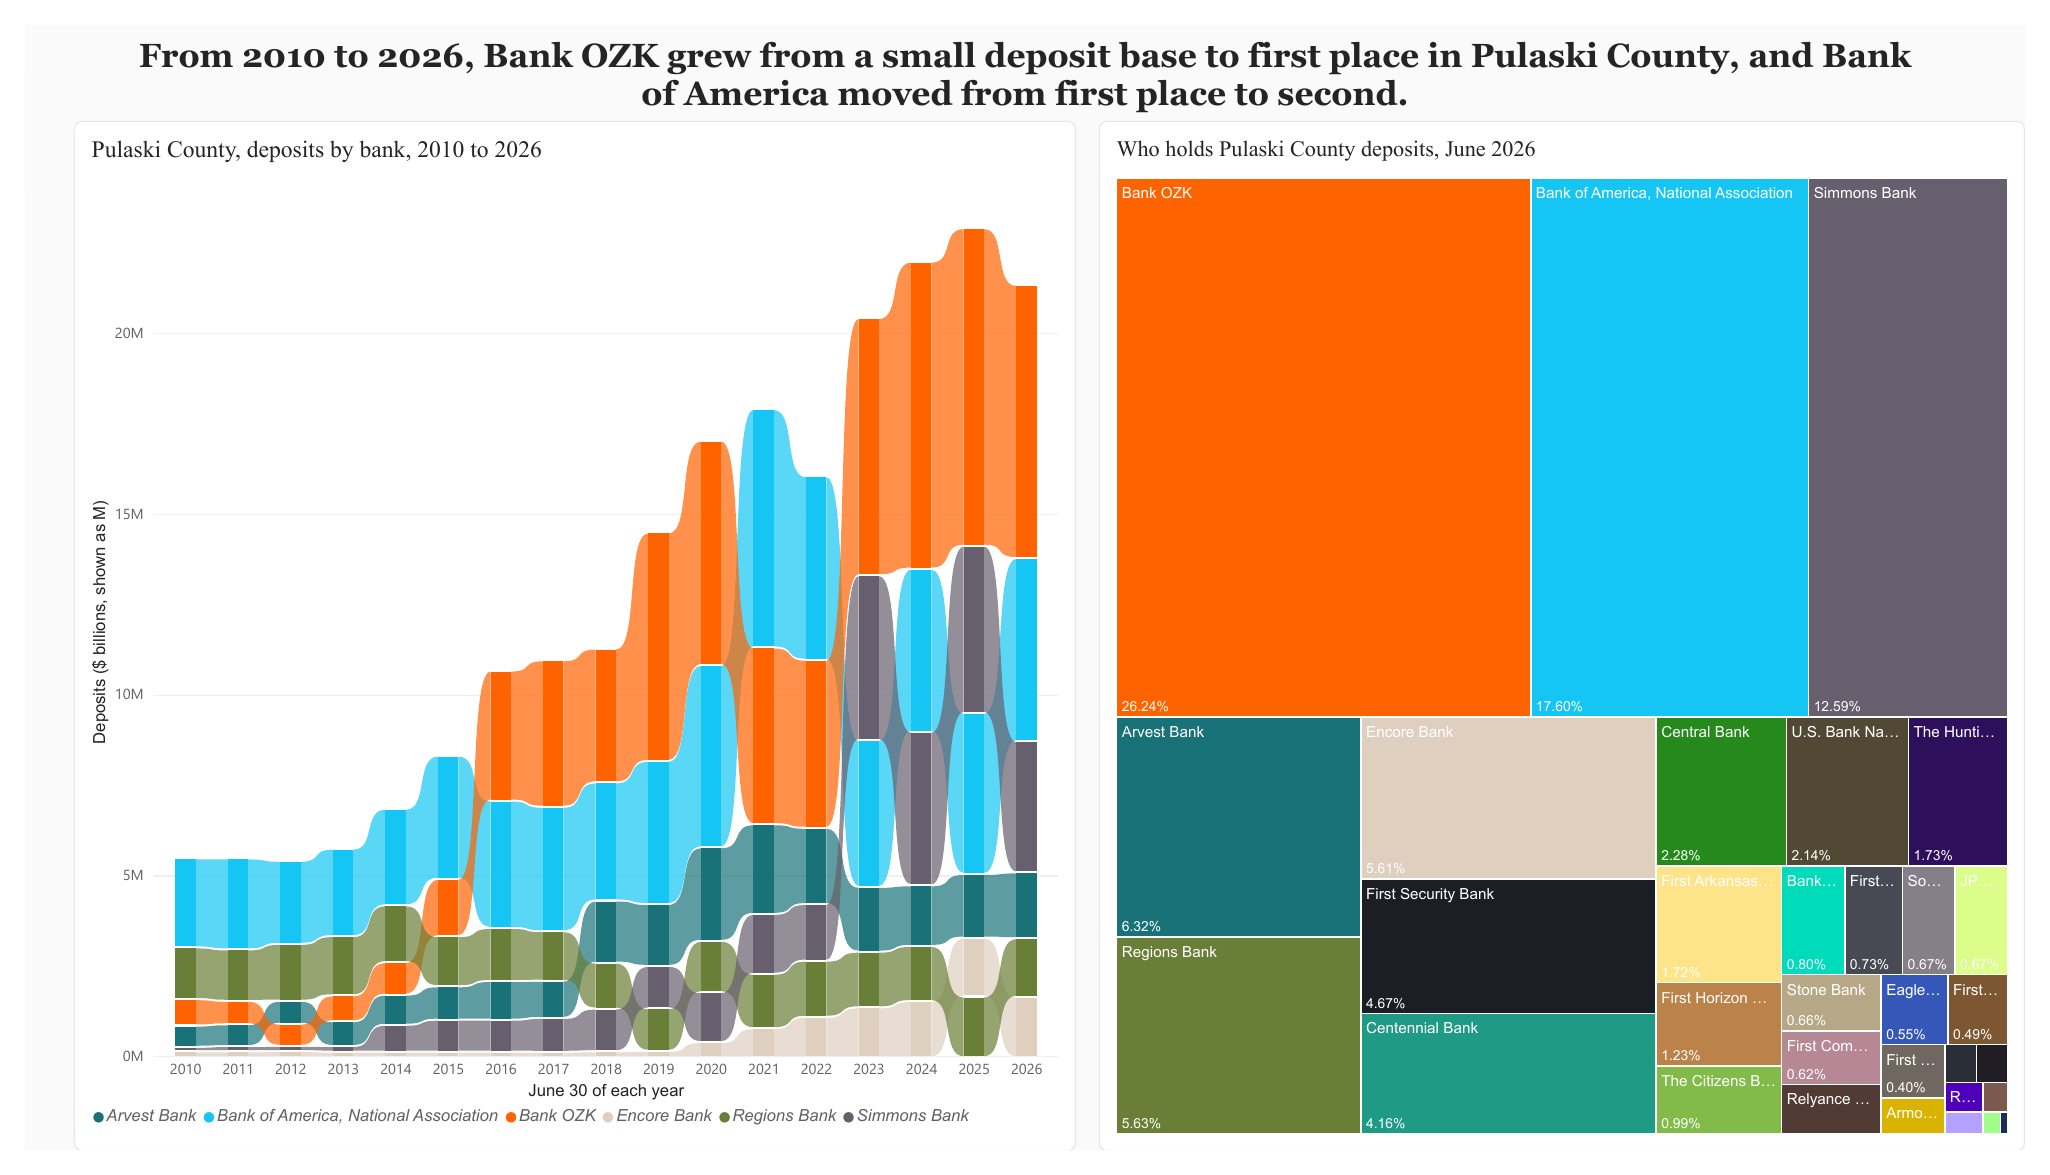

The dashboard page shown, as its layout file describes it:
{"tool":"powerbi","page":{"name":"Market detail","canvas":[1920,1080],"ordinal":4},"visuals":[{"type":"ribbonChart","title":"Pulaski County, deposits by bank, 2010 to 2026","fields":{"Category":["cln vw_BankCountyYear.sod_year"],"Series":["cln vw_BankCountyYear.bank_name"],"Y":["Max(cln vw_BankCountyYear.deposits_k)"]},"box":[46.6,91.6,962.5,989.1],"z":0},{"type":"treemap","title":"Who holds Pulaski County deposits, June 2026","fields":{"Group":["cln vw_BankCountyYear.bank_name"],"Values":["Sum(cln vw_BankCountyYear.deposits_k)"]},"box":[1030.8,91.6,889.2,989.1],"z":1000},{"type":"textbox","box":[94.9,11.7,1730.2,91.6],"z":2000}]}

Visuals, with their boxes in screenshot pixels (x1, y1, x2, y2), scaled from the page's 1920x1080 canvas onto the 2050x1175 screenshot:
"Pulaski County, deposits by bank, 2010 to 2026" ribbonChart: (left=50, top=100, right=1077, bottom=1174)
"Who holds Pulaski County deposits, June 2026" treemap: (left=1101, top=100, right=2049, bottom=1174)
textbox: (left=101, top=13, right=1949, bottom=112)
